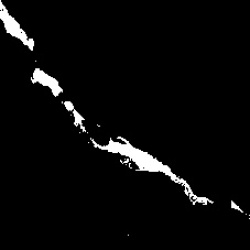crack: (3, 4, 242, 215)
